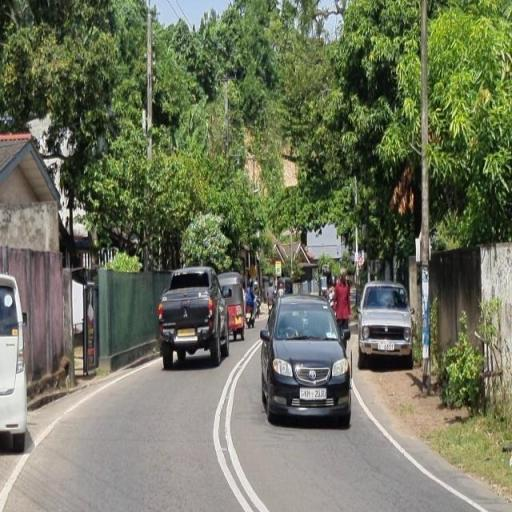double_white_line: (352, 381, 492, 510), (212, 339, 266, 512)
